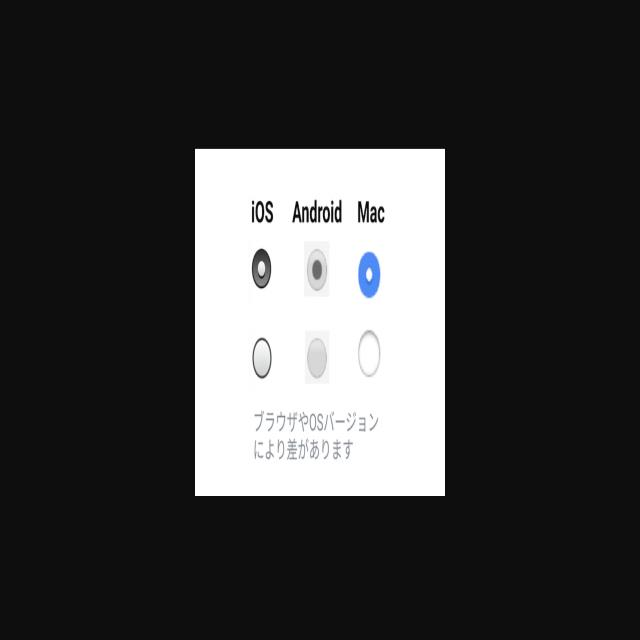radio: (357, 251, 382, 298), (306, 247, 328, 290), (251, 245, 272, 287)
